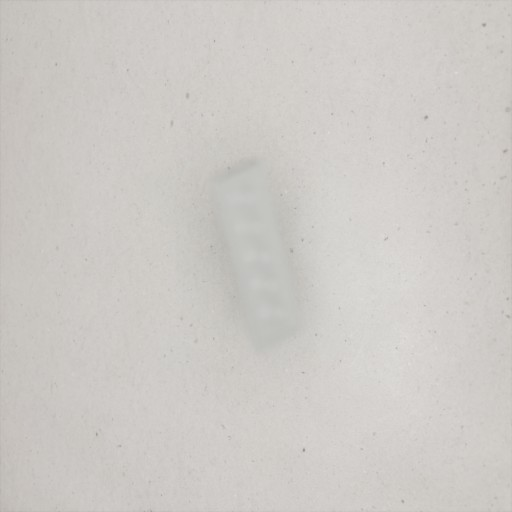lego: (210, 159, 304, 353)
